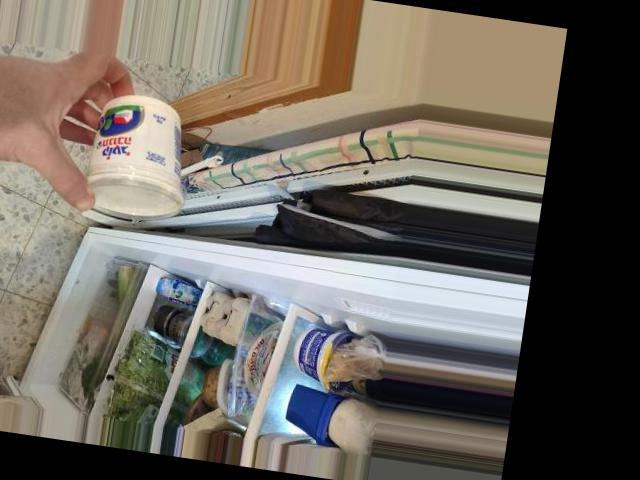cotage: (74, 84, 198, 223)
